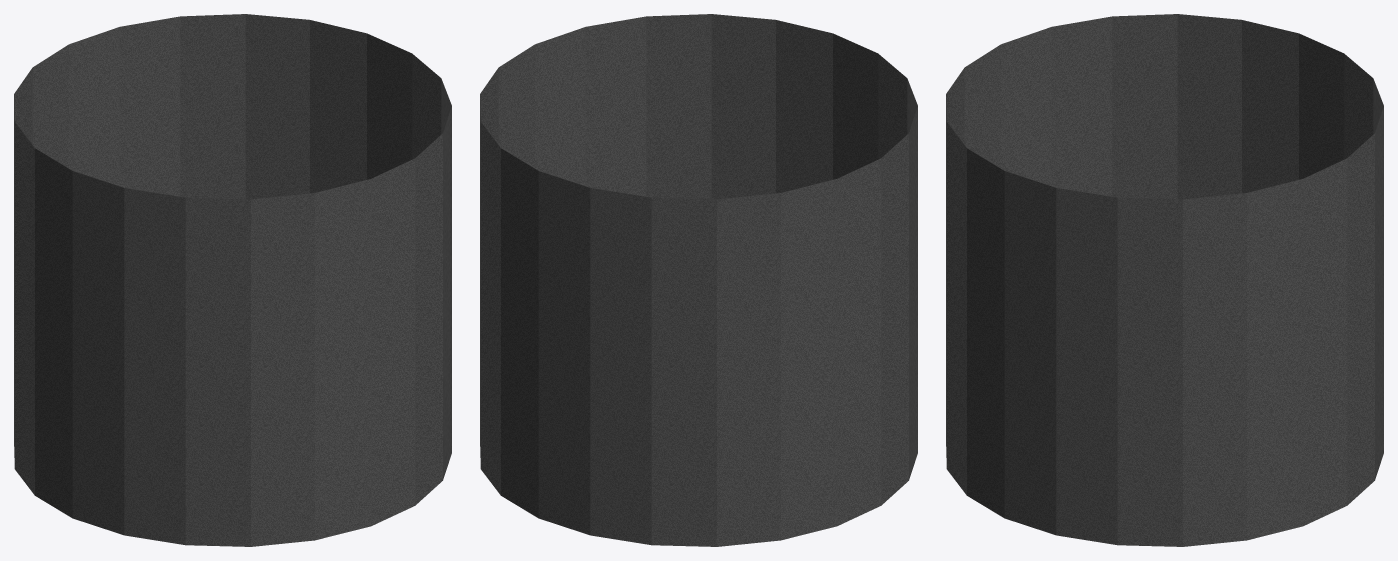
Rendered from sky_circle.gltf.
The picture shows the model from 3 angles, left to right: view 1: azimuth 30°, elevation 25°; view 2: azimuth 150°, elevation 25°; view 3: azimuth 270°, elevation 25°; orthographic projection.
Visible parts, largest first — view 1: sky_circle; view 2: sky_circle; view 3: sky_circle.
Boxes of the visible parts, box(x1,y1,x2,y2) form: sky_circle: box(14, 14, 451, 546); sky_circle: box(480, 14, 917, 546); sky_circle: box(946, 14, 1383, 546).
Bounding box in the file's own units: 166 × 145 × 166.
1 material, 1 textured.
